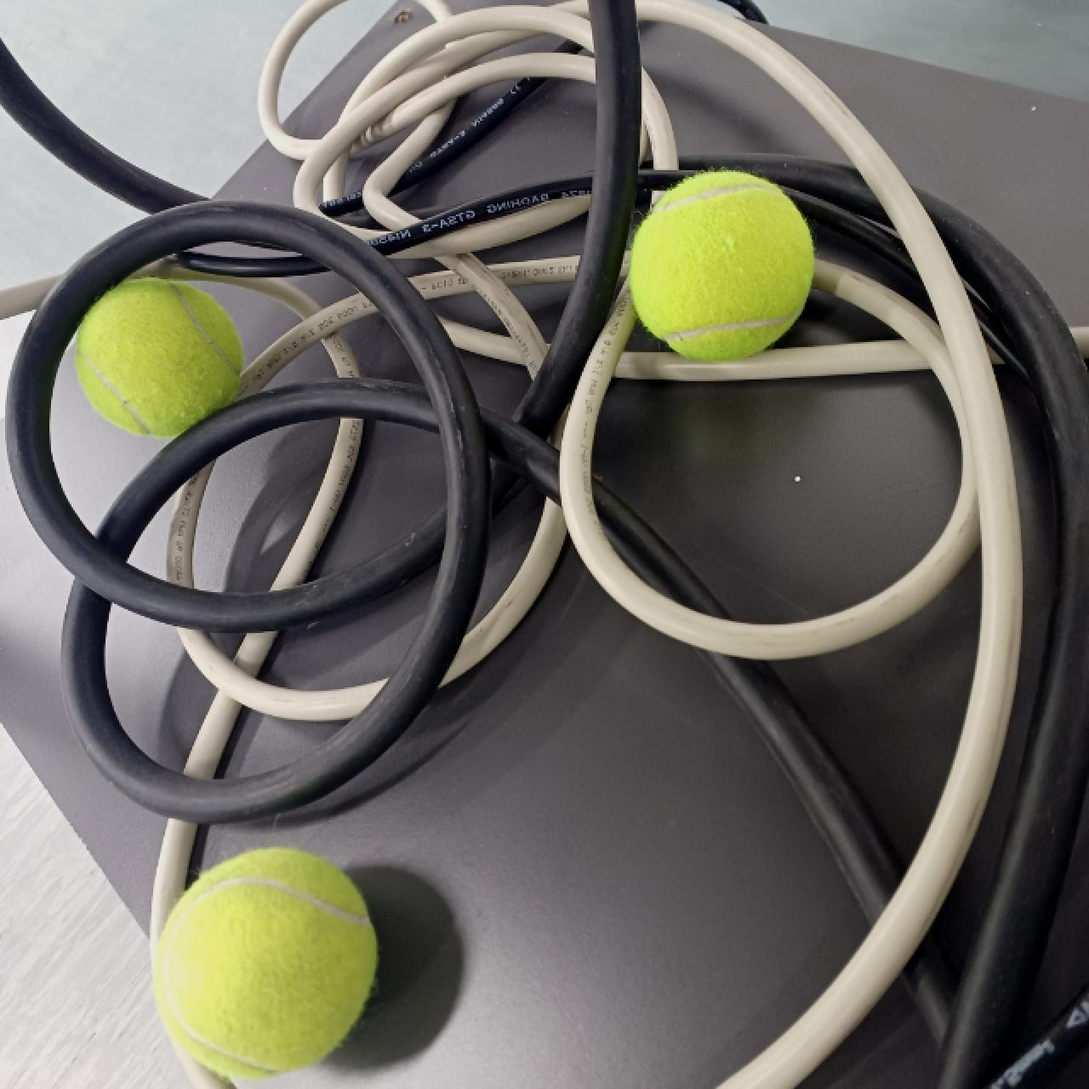tennis-ball: (150, 848, 374, 1075), (625, 167, 817, 365), (71, 275, 237, 441)
